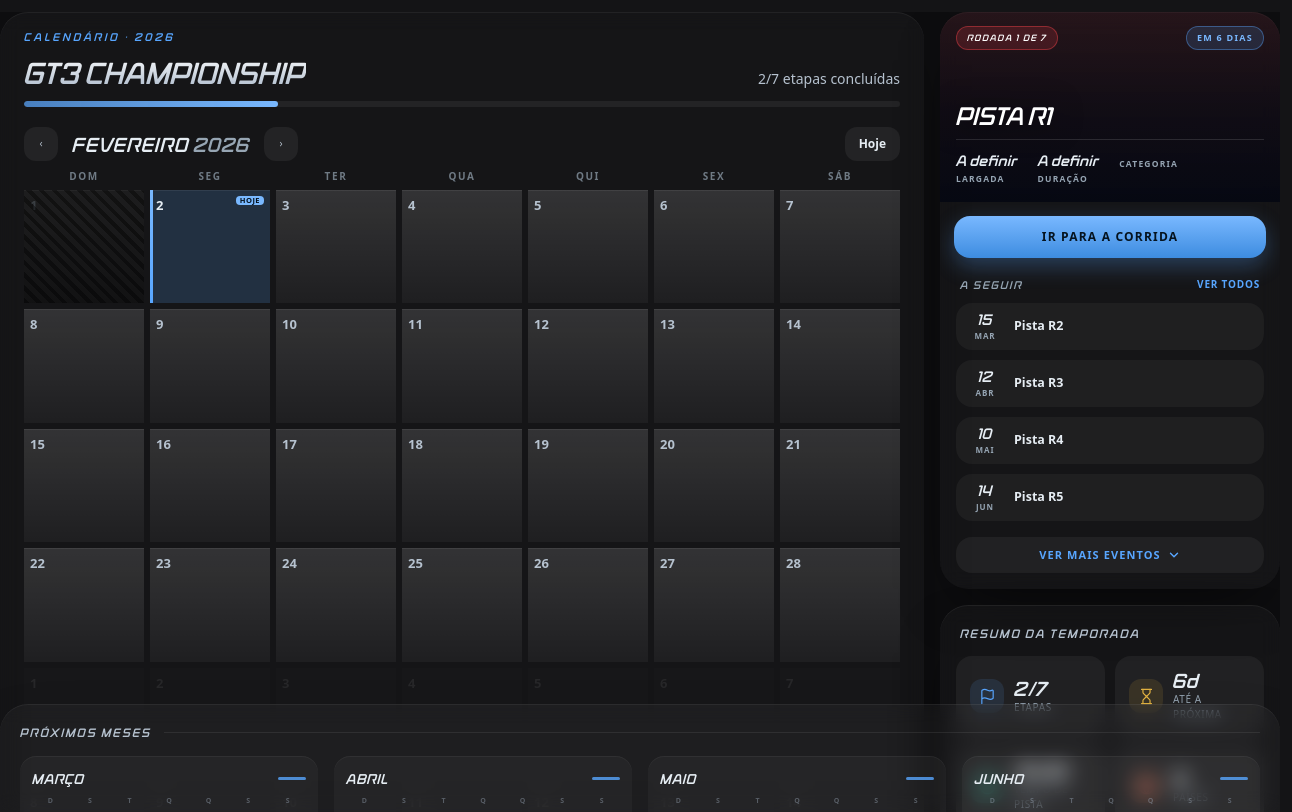
Scenario: CalendarTabRedesign — próximas etapas › 'Ver mais' e 'Ver menos' são o mesmo interruptor
Click the button "Ver mais eventos" at (1110, 555), box [956, 536, 1264, 573]
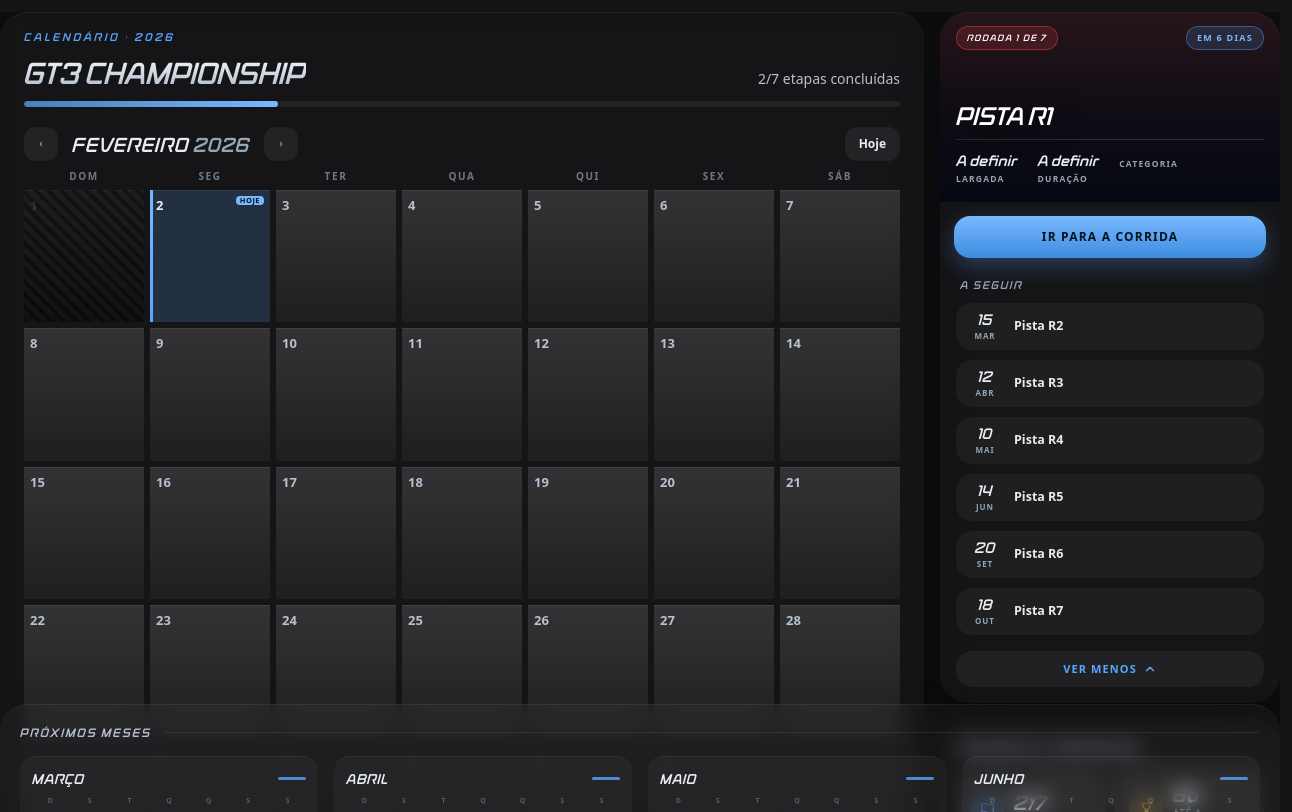
Result: the text "Pista R2" is shown 6 times at [1014, 317, 1064, 334]; [1014, 374, 1064, 391]; [1014, 431, 1064, 448]; [1014, 488, 1064, 505]; [1014, 545, 1064, 562]; [1014, 602, 1064, 619]
Click the button "Ver menos" at (1110, 669), box [956, 650, 1264, 687]
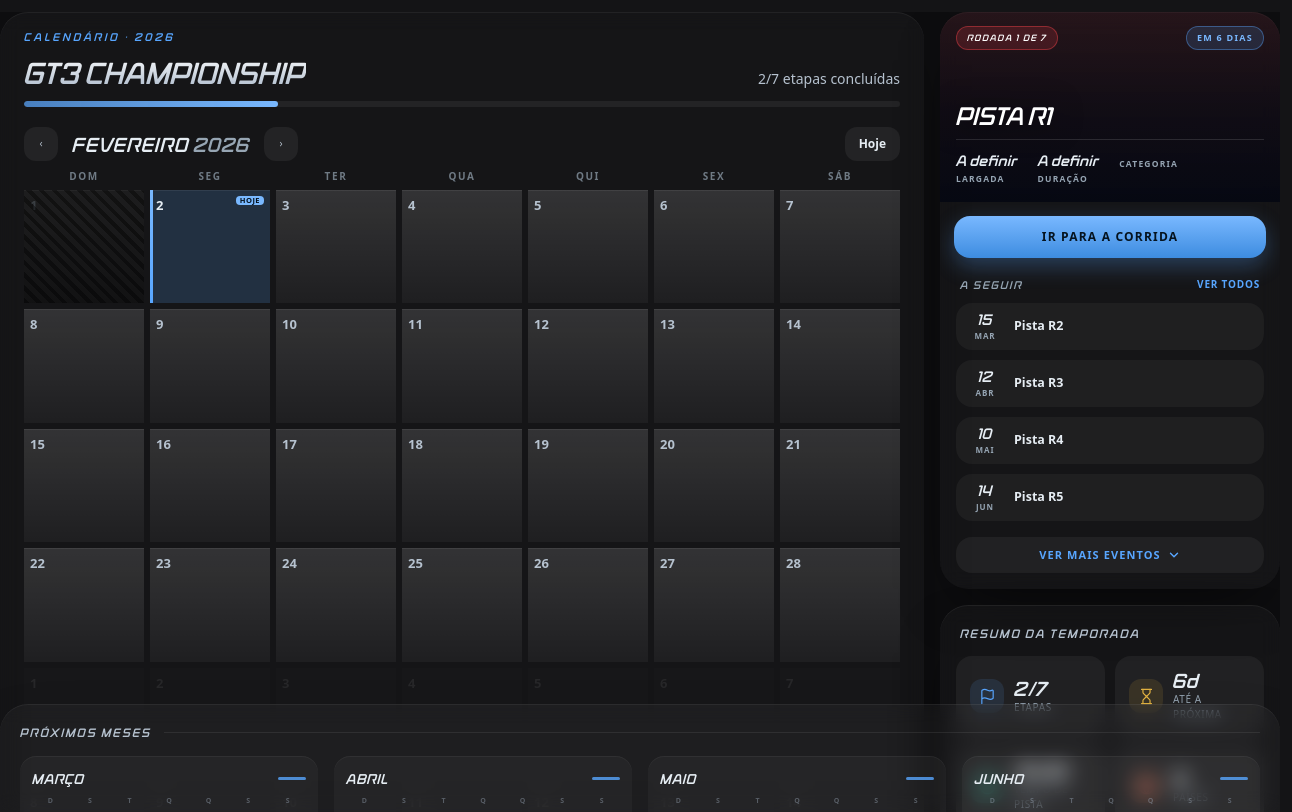
Result: the text "Pista R2" is shown 4 times at [1014, 317, 1064, 334]; [1014, 374, 1064, 391]; [1014, 431, 1064, 448]; [1014, 488, 1064, 505]
